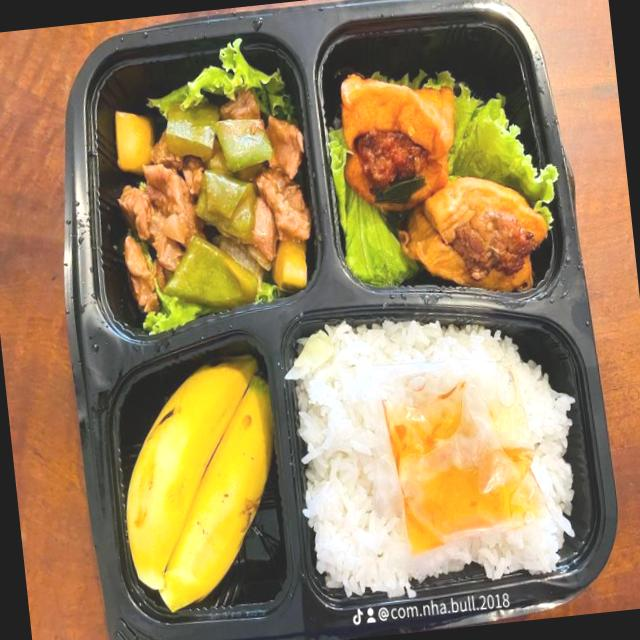chuoi: (126, 358, 255, 588), (164, 375, 272, 610)
com: (283, 321, 418, 599), (492, 329, 576, 516), (414, 516, 575, 581)
dau hu: (340, 74, 548, 290)
kho tieu: (115, 38, 310, 328)
nuoc mam: (386, 381, 536, 552)
rau: (397, 69, 557, 228), (328, 127, 419, 287)
